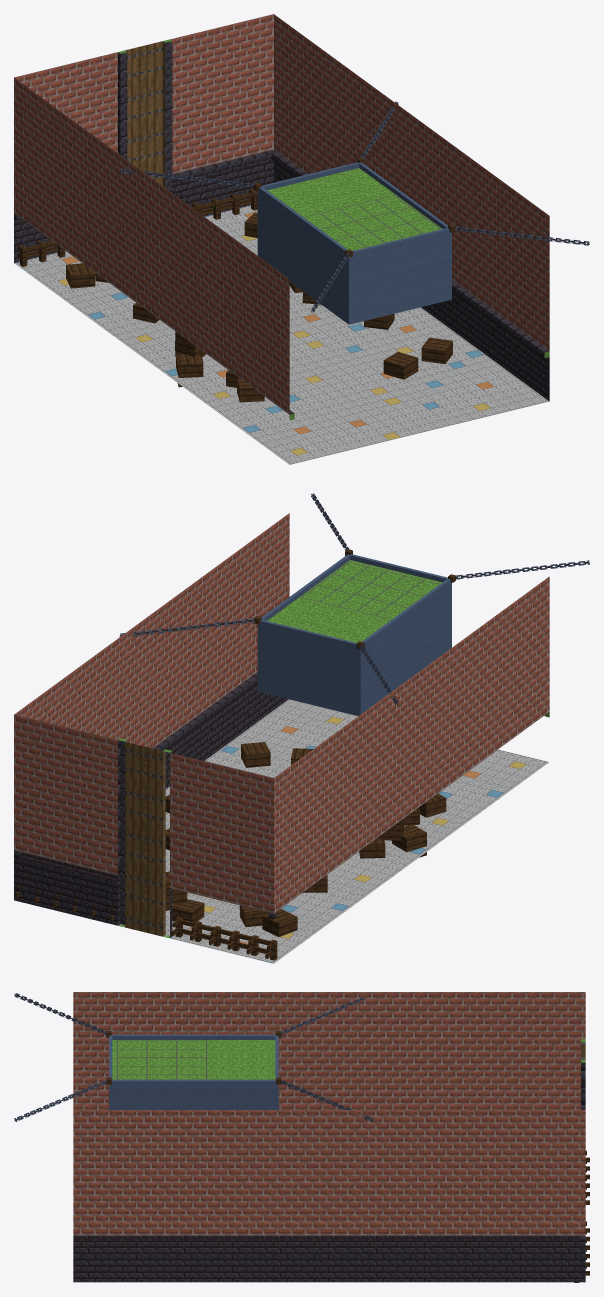
File: map_2.fbx
3 views of the same model, one above another, from view 1: azimuth 30°, elevation 25°; view 2: azimuth 150°, elevation 25°; view 3: azimuth 270°, elevation 25° (orthographic). The views are drawn at different scales.
Visible parts, largest first — view 1: map_2, grid; view 2: map_2, grid; view 3: map_2, grid.
Part boxes in pixels (x1,y1,x2,y2): map_2: (14, 14, 589, 464); grid: (304, 195, 440, 247); map_2: (14, 493, 589, 963); grid: (301, 562, 439, 619); map_2: (14, 992, 589, 1282); grid: (116, 1040, 206, 1079).
Bounding box in the file's own units: 65.58 × 43.79 × 126.
9 materials, 8 textured.
